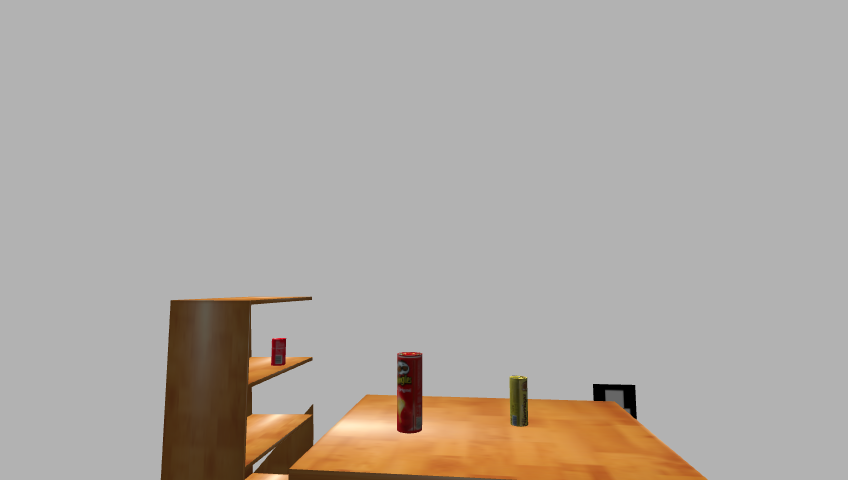aruco marker: (589, 382, 641, 424)
biscuits pack: (508, 376, 529, 428)
bookshelf: (159, 294, 315, 480)
coke can: (269, 337, 288, 367)
dinner table: (275, 395, 733, 480)
pringles can: (395, 351, 424, 436)
